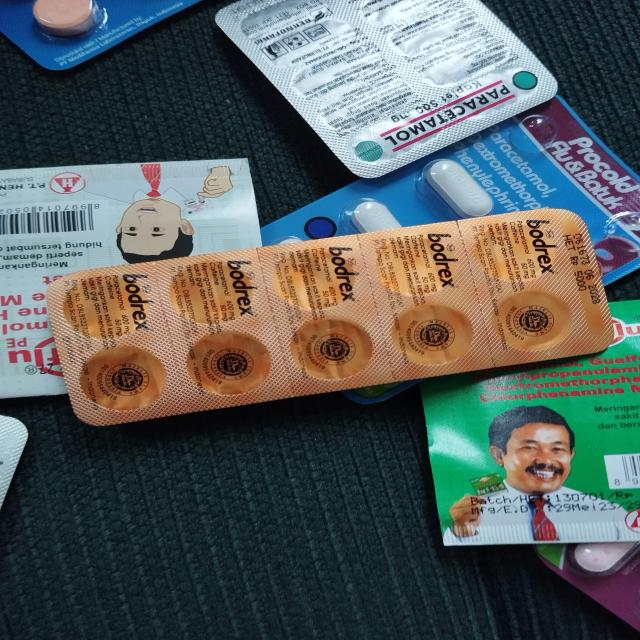B3: (41, 207, 614, 425), (254, 97, 640, 287), (0, 157, 270, 399), (217, 0, 556, 179), (417, 297, 640, 544)
